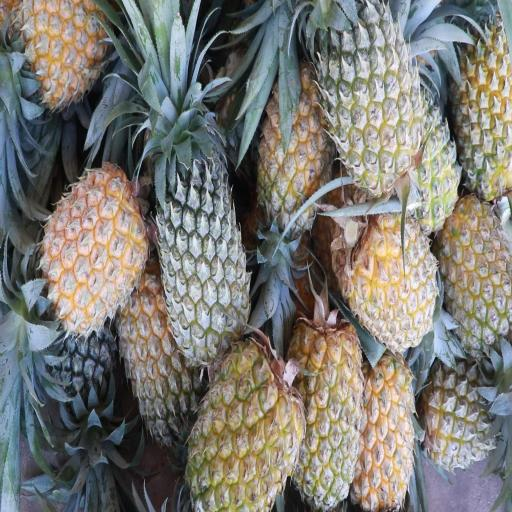------------------------------: (322, 6, 423, 182), (121, 280, 193, 445), (441, 200, 509, 342), (455, 35, 512, 197), (420, 368, 490, 473)
Pineapple - v8 v1: (186, 345, 302, 512), (40, 164, 145, 328), (338, 193, 434, 347), (288, 324, 362, 500), (260, 64, 334, 225), (354, 351, 415, 512), (13, 0, 107, 104)
